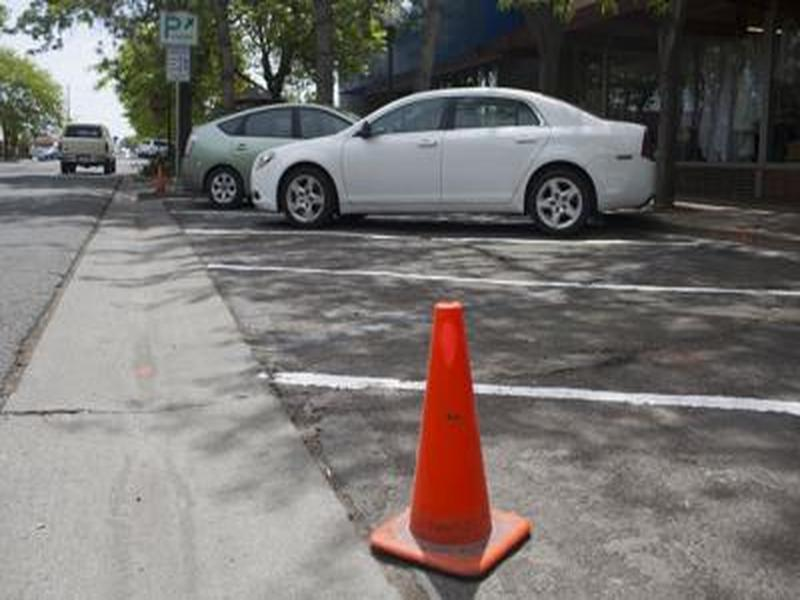Cone: (367, 300, 533, 583)
